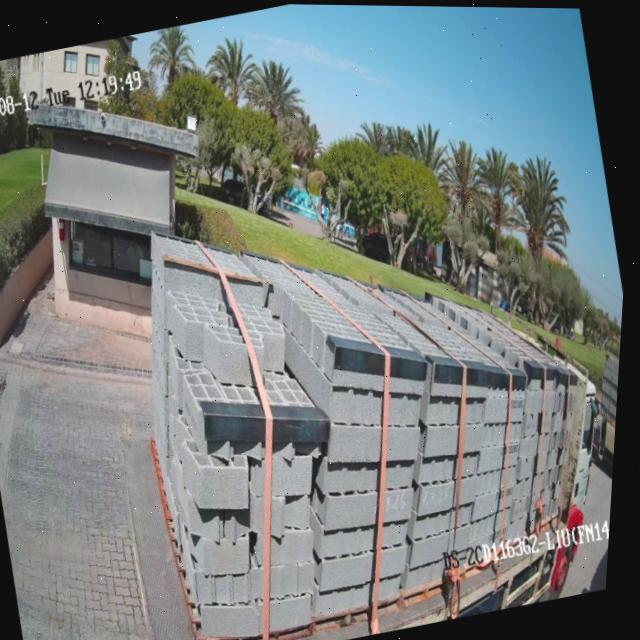bricks: (151, 233, 575, 637)
